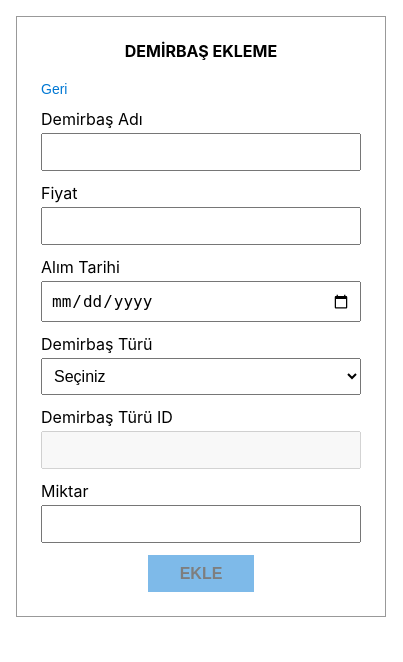
Test: StockAdd › shows the duplicate-asset message when createFixedAsset rejects with a 409 ApiError
Select "Bilgisayar" in the dropdown labelled "Demirbaş Türü" at (201, 376), box [41,358,361,395]
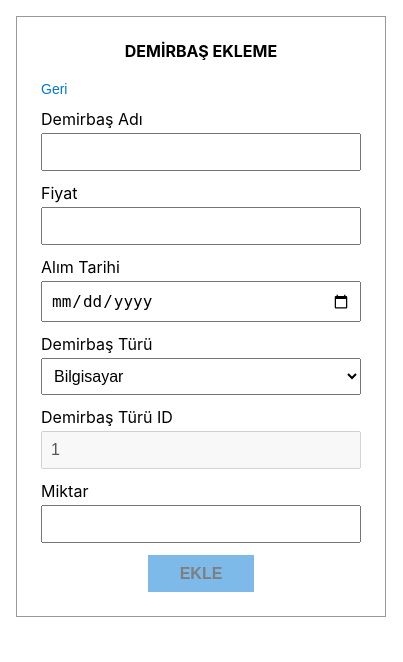
Type "Mevcut Demirbaş" into the field labelled "Demirbaş Adı" at (201, 152), box [41,133,361,171]
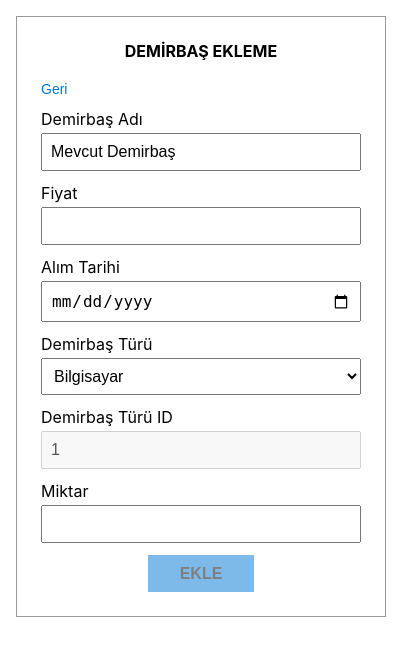
Type "100" into the field labelled "Fiyat" at (201, 226), box [41,207,361,245]
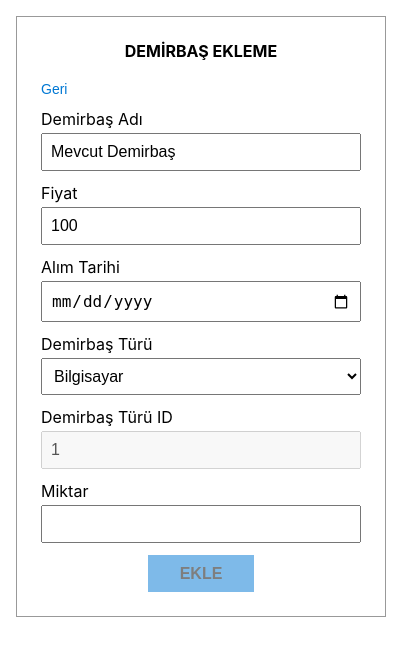
Type "1" into the field labelled "Miktar" at (201, 524), box [41,505,361,543]
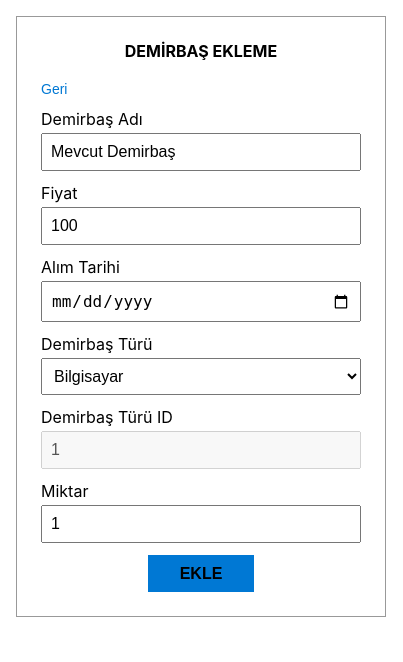
Click the button "EKLE" at (201, 574), box [148,555,254,592]
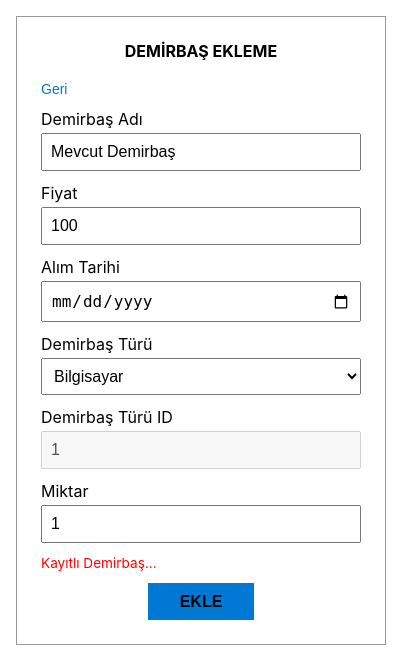
Expected: the text "Kayıtlı Demirbaş..." is shown, [41,555,157,571]
